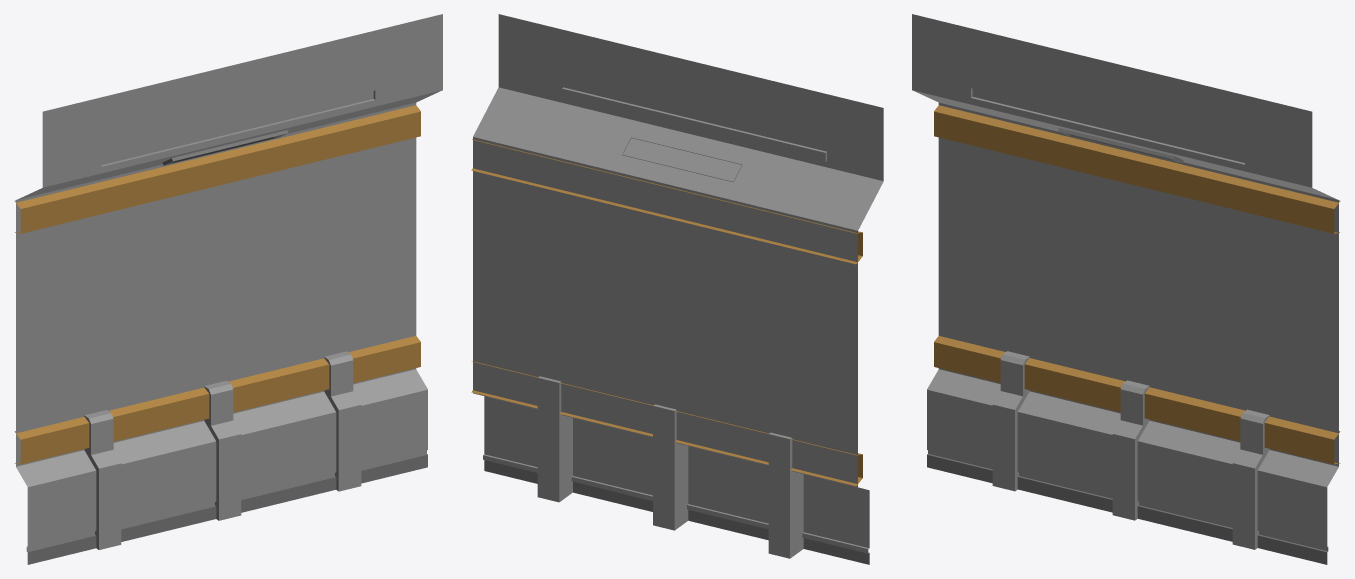
Rendered from Wall_Empty.fbx.
The picture shows the model from 3 angles, left to right: view 1: azimuth 30°, elevation 25°; view 2: azimuth 150°, elevation 25°; view 3: azimuth 330°, elevation 25°; orthographic projection. The views are drawn at different scales.
Visible parts, largest first — view 1: Wall_Empty; view 2: Wall_Empty; view 3: Wall_Empty.
Part boxes in pixels (x1,y1,x2,y2): Wall_Empty: [14, 14, 442, 564]; Wall_Empty: [471, 14, 883, 564]; Wall_Empty: [912, 14, 1340, 564].
Bounding box in the file's own units: 400 × 443 × 49.91.
